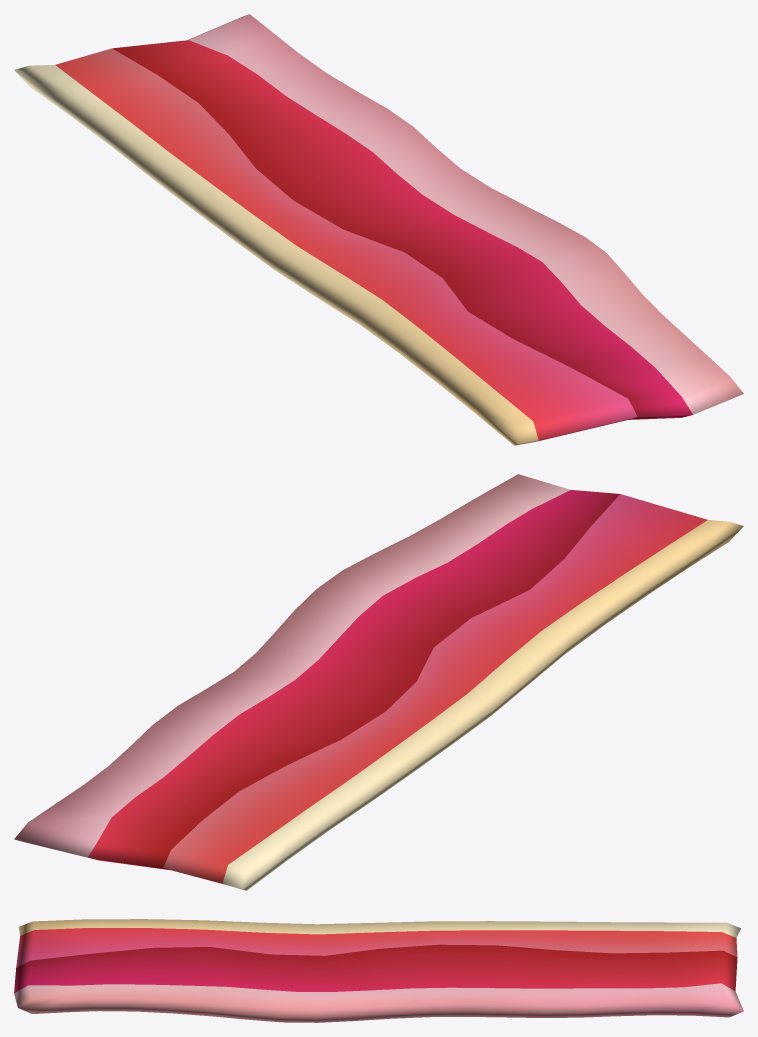
Rendered from bacon_002.fbx.
3 views of the same model, one above another, from view 1: azimuth 30°, elevation 25°; view 2: azimuth 150°, elevation 25°; view 3: azimuth 270°, elevation 25° (orthographic). The views are drawn at different scales.
Parts seen in each view (by area): view 1: bacon_002; view 2: bacon_002; view 3: bacon_002.
Part boxes in pixels (x1,y1,x2,y2): bacon_002: (14,14,743,445); bacon_002: (14,474,743,890); bacon_002: (14,919,743,1022).
Size of the model in its own units: 5.06 by 17.56 by 0.6652.
